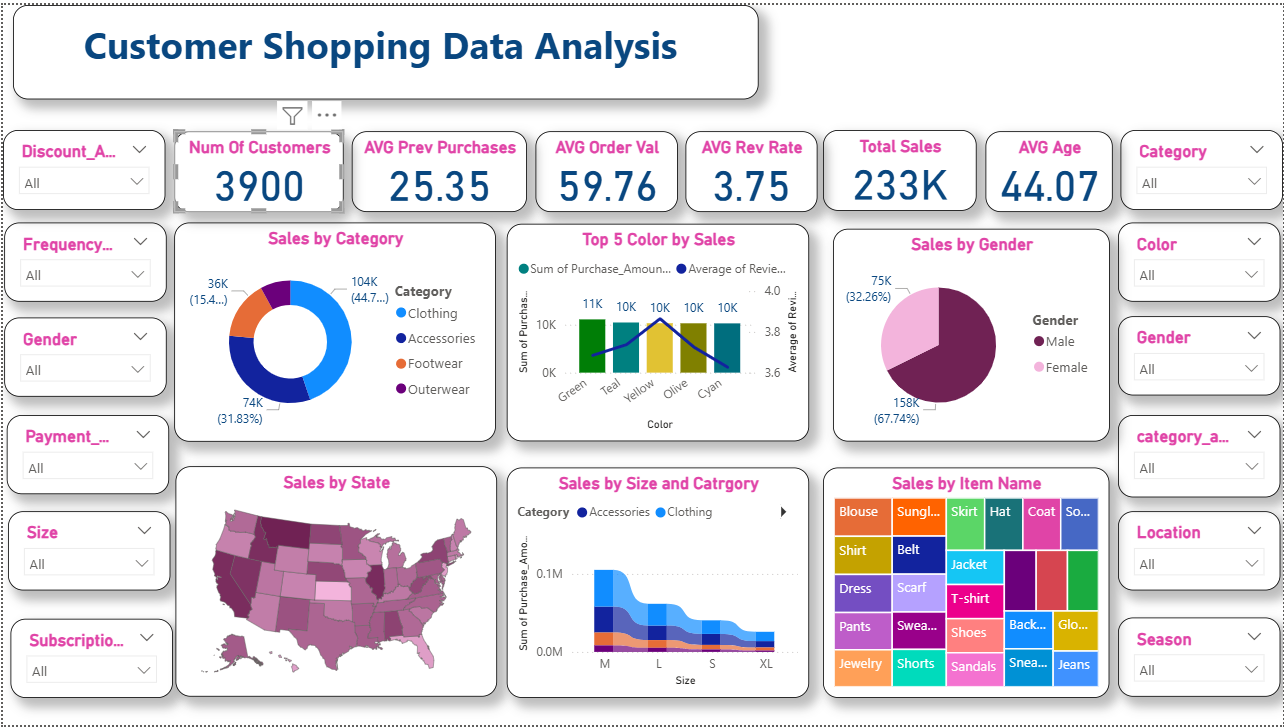

The dashboard page shown, as its layout file describes it:
{"tool":"powerbi","page":{"name":"Page 1","canvas":[1280,720],"ordinal":0},"visuals":[{"type":"textbox","box":[9.8,0,745.9,94.2],"z":0},{"type":"card","title":"Num Of Customers","fields":{"Values":["Count(shopping_trends.Customer_ID)"]},"box":[171,126.1,169.6,81.2],"z":1000},{"type":"card","title":"Total Sales","fields":{"Values":["Sum(shopping_trends.Purchase_Amount(USD))"]},"box":[820.3,124.6,153.6,81.2],"z":2000},{"type":"card","title":"AVG Order Val","fields":{"Values":["Avg(shopping_trends.Purchase_Amount(USD))"]},"box":[531.9,126.1,142,81.2],"z":3000},{"type":"slicer","fields":{"Values":["shopping_trends.Color"]},"box":[1114.5,217.4,162,79],"z":4000},{"type":"slicer","fields":{"Values":["shopping_trends.Season"]},"box":[1114.5,613,162,79],"z":5000},{"type":"slicer","fields":{"Values":["shopping_trends.Location"]},"box":[1114.5,505.8,162.3,79],"z":6000},{"type":"slicer","fields":{"Values":["shopping_trends.category_age"]},"box":[1114.5,410.1,162.3,82.6],"z":7000},{"type":"slicer","fields":{"Values":["shopping_trends.Gender"]},"box":[1114.5,311.6,162,79],"z":8000},{"type":"slicer","fields":{"Values":["shopping_trends.Category"]},"box":[1117.4,124.6,162.3,79.7],"z":9000},{"type":"card","title":"AVG Rev Rate","fields":{"Values":["Avg(shopping_trends.Review_Rating)"]},"box":[682.6,126.1,131.9,81.2],"z":10000},{"type":"card","title":"AVG Prev Purchases","fields":{"Values":["Avg(shopping_trends.Previous_Purchases)"]},"box":[349.3,126.1,175.4,81.2],"z":11000},{"type":"card","title":"AVG Age","fields":{"Values":["Avg(shopping_trends.Age)"]},"box":[982.6,126.1,127.5,81.2],"z":12000},{"type":"slicer","fields":{"Values":["shopping_trends.Frequency_of_Purchases"]},"box":[1,217.4,162,79],"z":13000},{"type":"slicer","fields":{"Values":["shopping_trends.Subscription_Status"]},"box":[7.4,613.3,162,79],"z":14000},{"type":"slicer","fields":{"Values":["shopping_trends.Size"]},"box":[4.5,506.1,162.3,79],"z":15000},{"type":"slicer","fields":{"Values":["shopping_trends.Payment_Method"]},"box":[3.9,410.1,162.3,79],"z":16000},{"type":"slicer","fields":{"Values":["shopping_trends.Gender"]},"box":[1.6,311.9,162,79],"z":17000},{"type":"slicer","fields":{"Values":["shopping_trends.Discount_Applied"]},"box":[0,124.6,162.3,79.7],"z":18000},{"type":"donutChart","title":"Sales by Category","fields":{"Category":["shopping_trends.Category"],"Y":["Sum(shopping_trends.Purchase_Amount(USD))"]},"box":[171,217.4,321.7,218.8],"z":19000},{"type":"lineStackedColumnComboChart","title":"Top 5 Color by Sales","fields":{"Category":["shopping_trends.Color"],"Y":["Sum(shopping_trends.Purchase_Amount(USD))"],"Y2":["Avg(shopping_trends.Review_Rating)"]},"box":[503.8,218.8,302.5,217.5],"z":20000},{"type":"pieChart","title":"Sales by Gender","fields":{"Category":["shopping_trends.Gender"],"Y":["Sum(shopping_trends.Purchase_Amount(USD))"]},"box":[830.4,223.2,276.8,213],"z":21000},{"type":"shapeMap","title":"Sales by State","fields":{"Category":["shopping_trends.Location"],"Value":["Sum(shopping_trends.Purchase_Amount(USD))"]},"box":[172.5,461.2,321.2,230],"z":22000},{"type":"ribbonChart","title":"Sales by Size and Catrgory","fields":{"Category":["shopping_trends.Size"],"Y":["Sum(shopping_trends.Purchase_Amount(USD))"],"Series":["shopping_trends.Category"]},"box":[503.8,462.5,302.5,230],"z":23000},{"type":"treemap","title":"Sales by Item Name","fields":{"Values":["Sum(shopping_trends.Purchase_Amount(USD))"],"Details":["shopping_trends.Item_Purchased"]},"box":[820,462.5,286.2,230],"z":23001}]}

Visuals, with their boxes in screenshot pixels (x1, y1, x2, y2), scaled from the page's 1280x720 canvas onto the 1284x727 screenshot:
textbox: detection(10, 0, 758, 95)
"Num Of Customers" card: detection(172, 127, 342, 209)
"Total Sales" card: detection(823, 126, 977, 208)
"AVG Order Val" card: detection(534, 127, 676, 209)
slicer - shopping_trends.Color: detection(1118, 220, 1280, 299)
slicer - shopping_trends.Season: detection(1118, 619, 1280, 699)
slicer - shopping_trends.Location: detection(1118, 511, 1281, 590)
slicer - shopping_trends.category_age: detection(1118, 414, 1281, 497)
slicer - shopping_trends.Gender: detection(1118, 315, 1280, 394)
slicer - shopping_trends.Category: detection(1121, 126, 1283, 206)
"AVG Rev Rate" card: detection(685, 127, 817, 209)
"AVG Prev Purchases" card: detection(350, 127, 526, 209)
"AVG Age" card: detection(986, 127, 1114, 209)
slicer - shopping_trends.Frequency_of_Purchases: detection(1, 220, 164, 299)
slicer - shopping_trends.Subscription_Status: detection(7, 619, 170, 699)
slicer - shopping_trends.Size: detection(5, 511, 167, 591)
slicer - shopping_trends.Payment_Method: detection(4, 414, 167, 494)
slicer - shopping_trends.Gender: detection(2, 315, 164, 395)
slicer - shopping_trends.Discount_Applied: detection(0, 126, 163, 206)
"Sales by Category" donutChart: detection(172, 220, 494, 440)
"Top 5 Color by Sales" lineStackedColumnComboChart: detection(505, 221, 809, 441)
"Sales by Gender" pieChart: detection(833, 225, 1111, 440)
"Sales by State" shapeMap: detection(173, 466, 495, 698)
"Sales by Size and Catrgory" ribbonChart: detection(505, 467, 809, 699)
"Sales by Item Name" treemap: detection(823, 467, 1110, 699)
